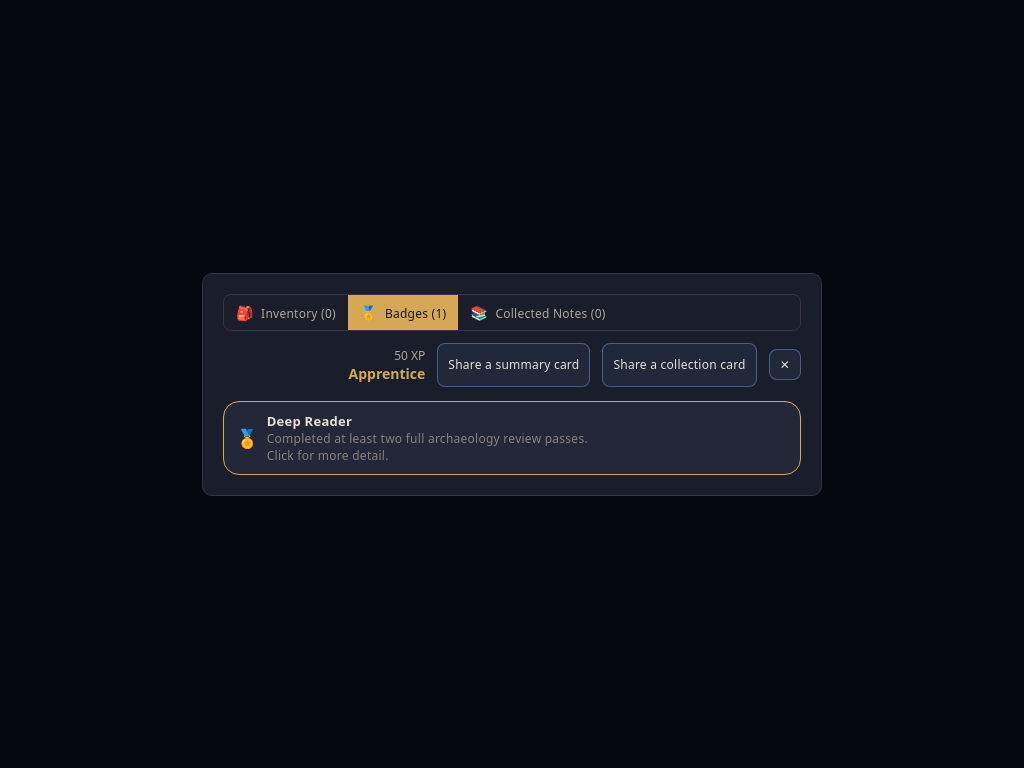
it: InventoryBadgesPanel › opens detail for long unbroken badge ids
Click the button that starts with "Deep Reader" at [512, 438], box x1=223 y1=400 x2=801 y2=474
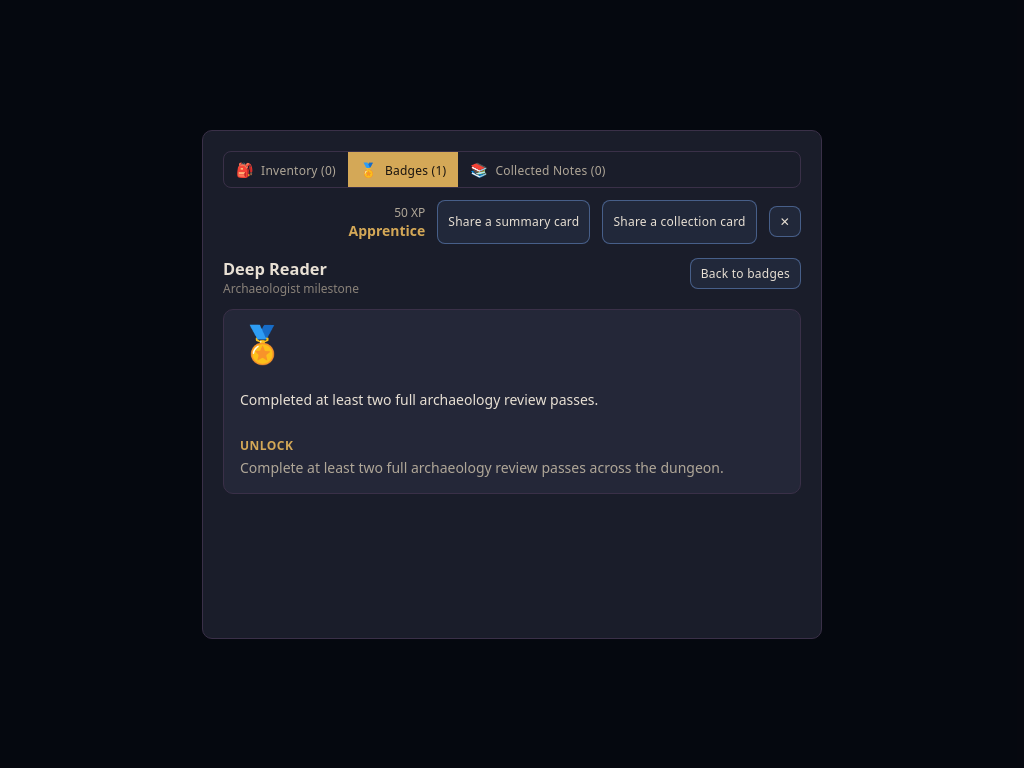
Check: the text "Archaeologist milestone" is shown, box x1=223 y1=280 x2=359 y2=296
Check: the button "Back to badges" is shown, box x1=690 y1=258 x2=801 y2=288
